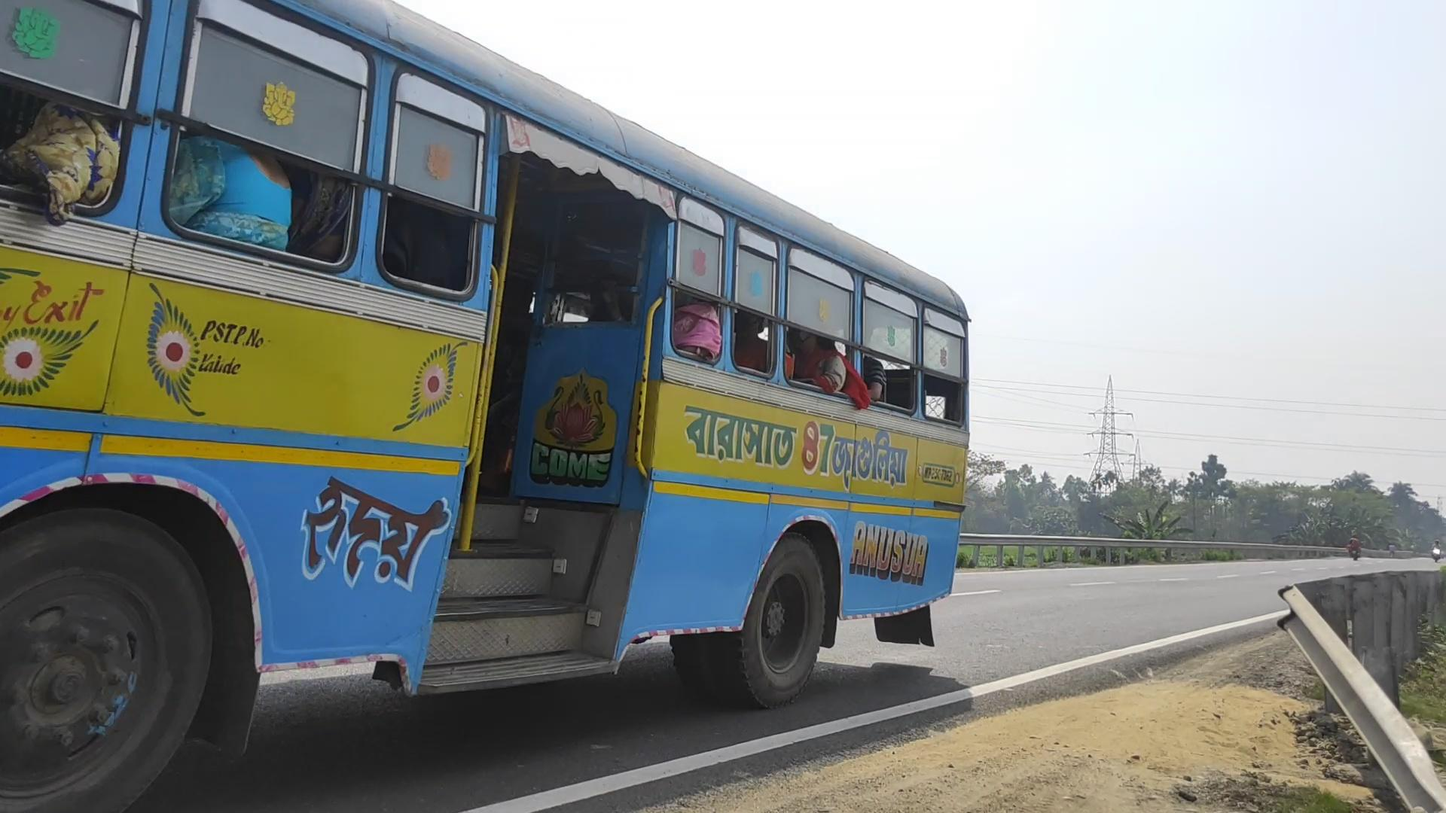Bus: (3, 1, 972, 813)
